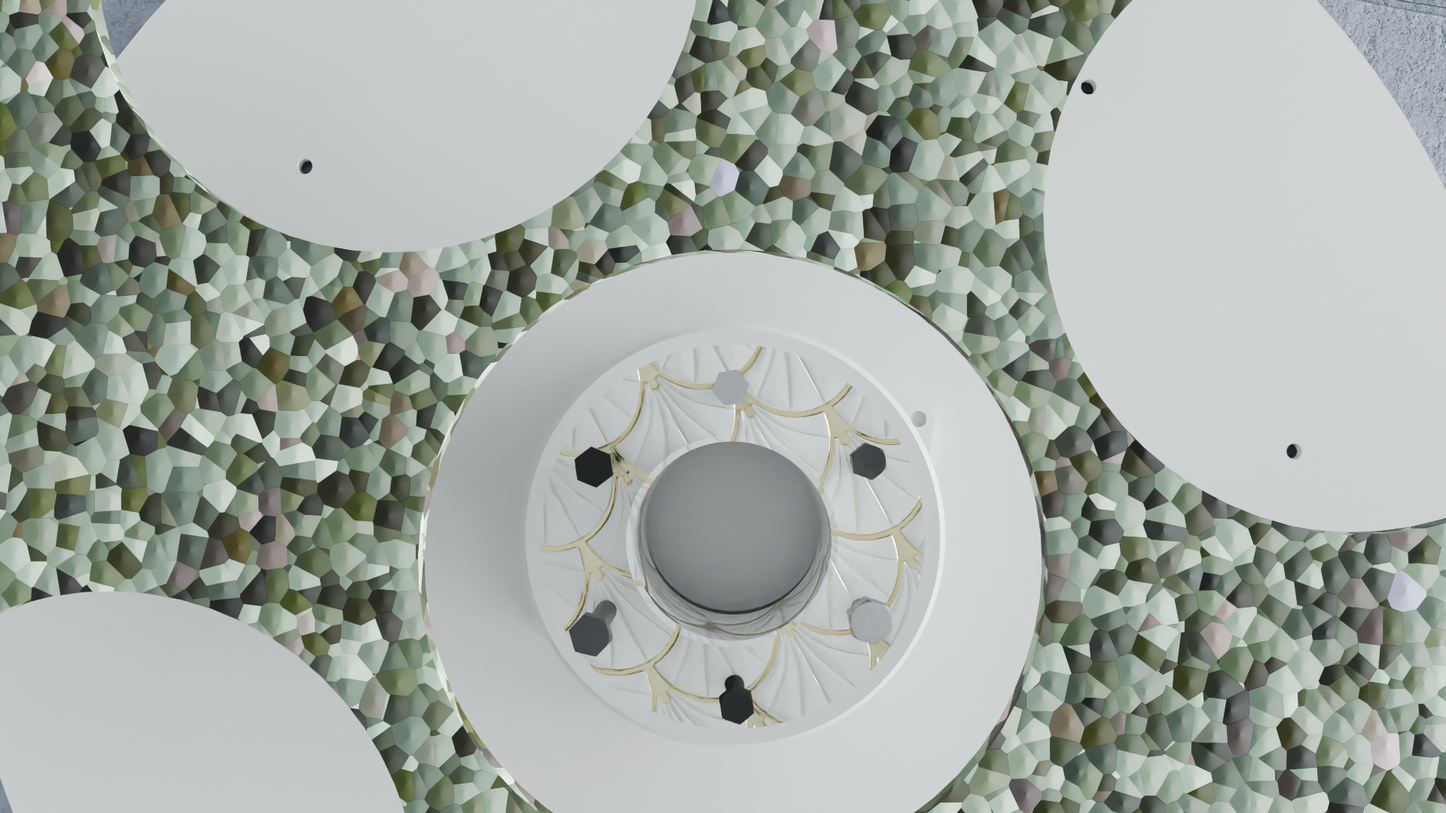bolt: (849, 598, 893, 645), (569, 614, 612, 656), (575, 446, 613, 488), (719, 687, 755, 725), (851, 443, 887, 480), (712, 370, 750, 405)
